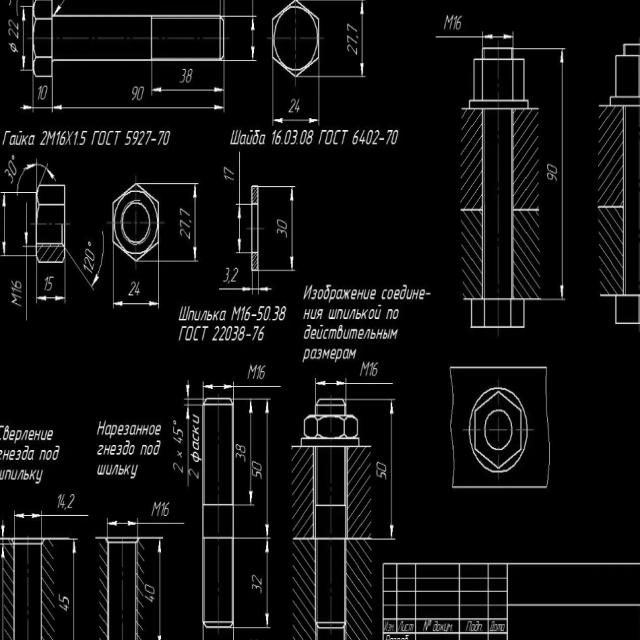marking_line: (557, 50, 567, 299), (52, 104, 223, 112), (15, 160, 59, 185), (183, 382, 192, 489), (264, 402, 271, 537), (92, 231, 106, 285), (390, 403, 395, 539), (152, 85, 224, 94), (248, 399, 254, 504), (264, 540, 271, 628), (156, 539, 162, 640), (72, 541, 77, 640), (1, 194, 9, 252), (359, 2, 365, 77), (20, 8, 27, 71), (114, 300, 159, 309), (290, 188, 295, 269), (1, 544, 5, 640), (249, 18, 258, 60), (192, 185, 197, 259), (21, 103, 65, 111), (108, 520, 139, 531), (317, 378, 345, 388), (236, 206, 242, 251), (24, 203, 30, 247), (16, 512, 42, 521), (484, 32, 513, 40), (273, 118, 318, 123), (38, 295, 66, 302), (204, 383, 231, 390), (217, 288, 252, 292), (0, 520, 6, 538), (260, 286, 274, 293)
numeric: (231, 303, 288, 324), (214, 325, 271, 344), (171, 418, 184, 475), (190, 414, 200, 479), (176, 206, 192, 241), (350, 129, 380, 146), (150, 498, 173, 520), (359, 359, 381, 380), (126, 130, 151, 148), (11, 278, 24, 312), (273, 215, 290, 241), (56, 492, 77, 512), (346, 20, 357, 58), (443, 12, 464, 31), (247, 363, 269, 381), (4, 16, 20, 40), (124, 278, 142, 299), (2, 160, 17, 184), (129, 82, 145, 104), (83, 249, 97, 274), (249, 569, 263, 593), (373, 457, 387, 481), (222, 160, 235, 185), (546, 162, 558, 187), (223, 266, 240, 283), (271, 127, 286, 146), (158, 128, 171, 149), (252, 460, 265, 481), (180, 67, 195, 85), (283, 127, 297, 146), (299, 128, 312, 148), (289, 97, 303, 114), (234, 443, 246, 461), (38, 83, 49, 102), (387, 128, 398, 147), (144, 583, 154, 602), (43, 275, 54, 292), (59, 595, 68, 613)
special_symbol: (53, 0, 73, 15), (7, 41, 18, 53)
